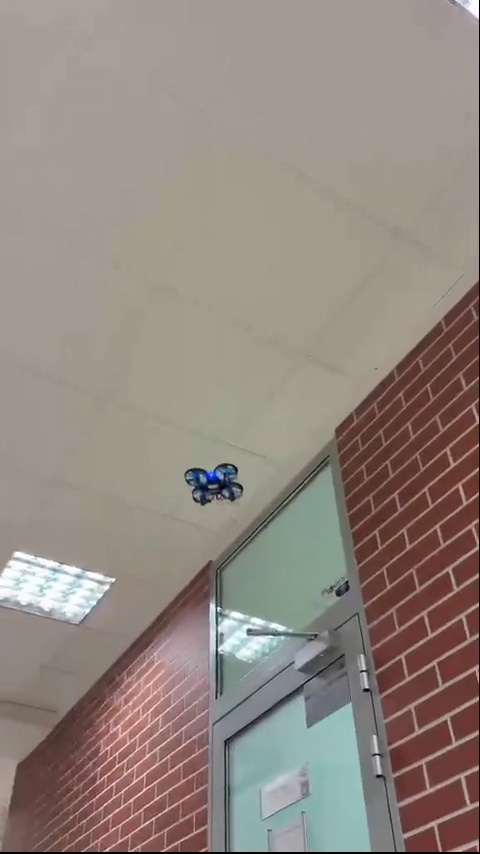drone: (186, 467, 240, 506)
